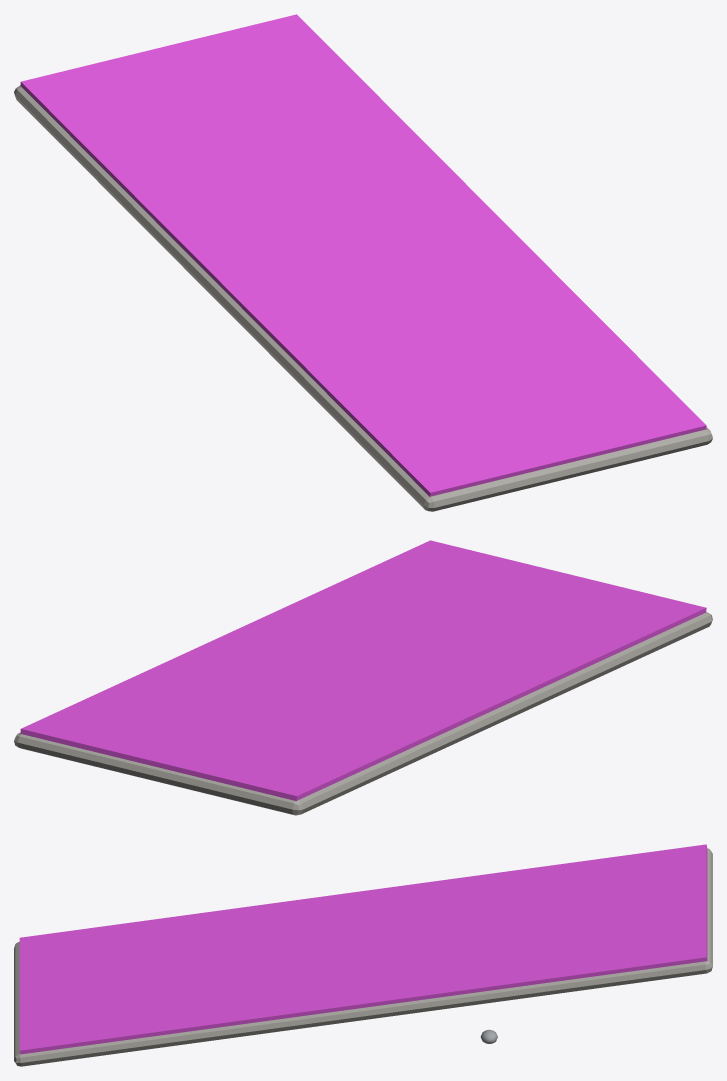
The picture shows the model from 3 angles, top to bottom: view 1: azimuth 30°, elevation 25°; view 2: azimuth 150°, elevation 25°; view 3: azimuth 270°, elevation 25°; orthographic projection. The views are drawn at different scales.
Visible parts, largest first — view 1: NAV_MASK_FOREST_PATH_GRAVEL_SLOPE_DOWN_SLOPE, LOD1_FOREST_PATH_GRAVEL_SLOPE_DOWN_Slope; view 2: NAV_MASK_FOREST_PATH_GRAVEL_SLOPE_DOWN_SLOPE, LOD1_FOREST_PATH_GRAVEL_SLOPE_DOWN_Slope; view 3: NAV_MASK_FOREST_PATH_GRAVEL_SLOPE_DOWN_SLOPE, LOD1_FOREST_PATH_GRAVEL_SLOPE_DOWN_Slope.
Boxes of the visible parts, x1,y1,x2,y2 form: NAV_MASK_FOREST_PATH_GRAVEL_SLOPE_DOWN_SLOPE: (20,14,706,496); LOD1_FOREST_PATH_GRAVEL_SLOPE_DOWN_Slope: (14,85,712,511); NAV_MASK_FOREST_PATH_GRAVEL_SLOPE_DOWN_SLOPE: (20,540,706,800); LOD1_FOREST_PATH_GRAVEL_SLOPE_DOWN_Slope: (14,612,712,815); NAV_MASK_FOREST_PATH_GRAVEL_SLOPE_DOWN_SLOPE: (19,844,707,1054); LOD1_FOREST_PATH_GRAVEL_SLOPE_DOWN_Slope: (14,848,712,1066).
Size of what is drawn, in the model's own units: 3.2 by 1.38 by 8.
